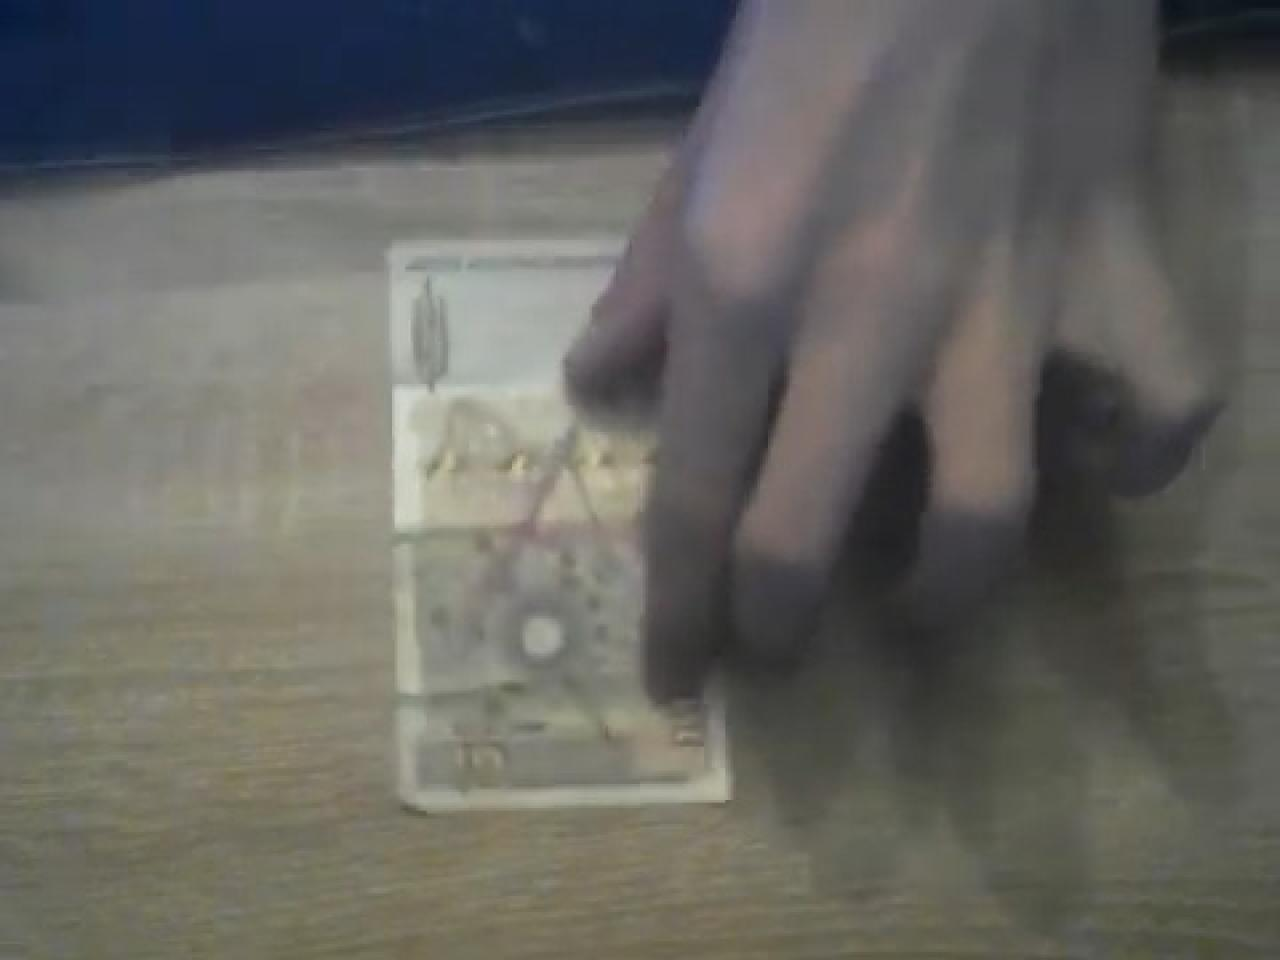10leva: (384, 240, 731, 814)
